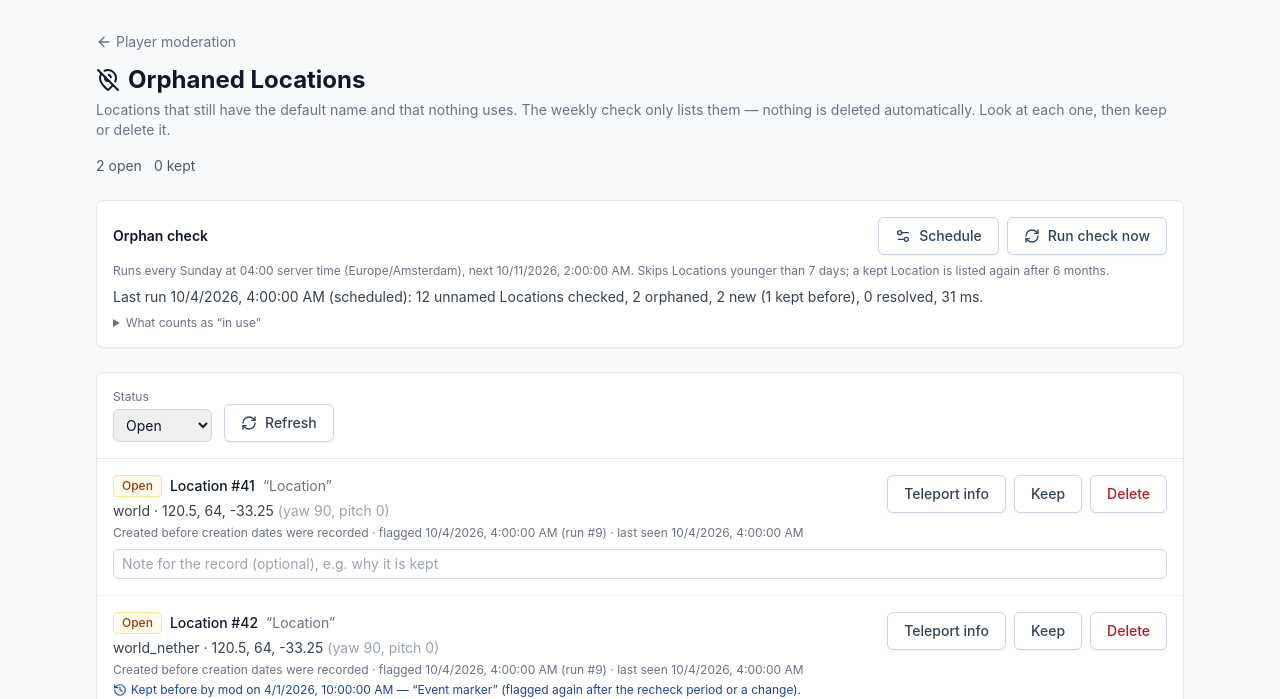
Test: LocationRetentionPage › deletes only after the FeedbackModal confirmation, with the note
The image size is (1280, 699).
Expected: the text "Location #41" is shown, [170,476,255,496]
In the field named "Note for Location 41": (640, 564) [113,549,1167,579], type "Test leftover"
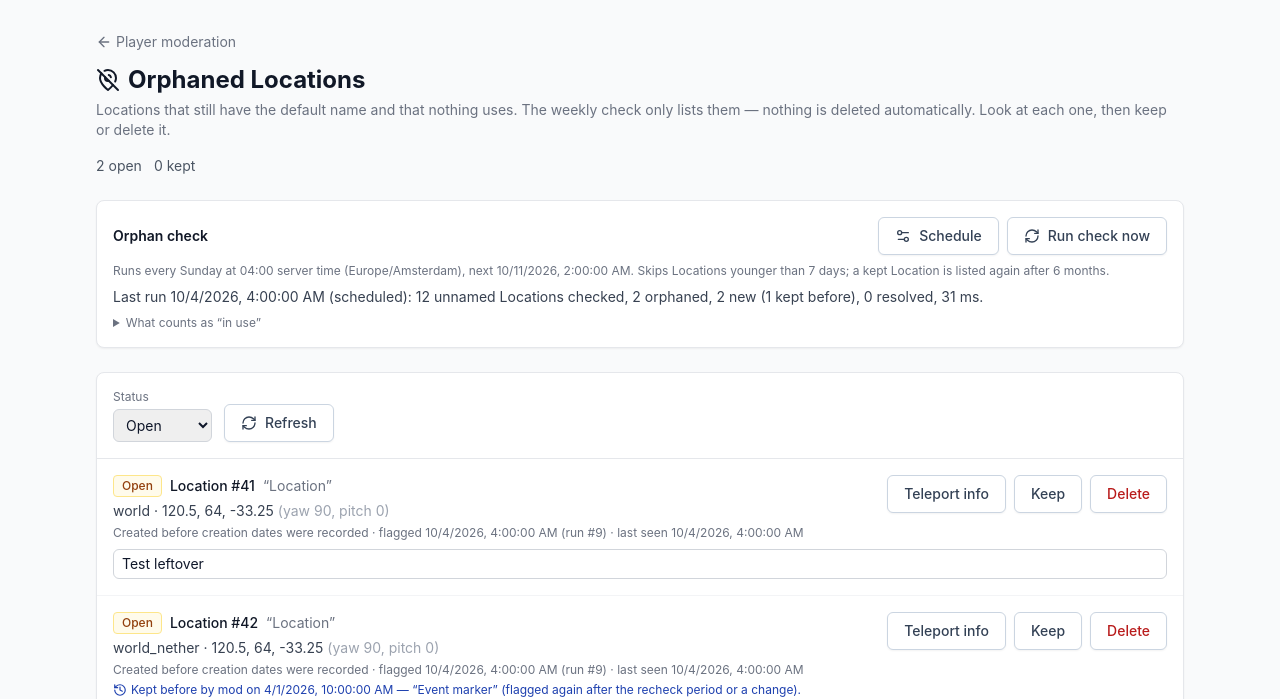
Click the button with aria-label "Delete Location 41": (1129, 494) [1090,475,1167,513]
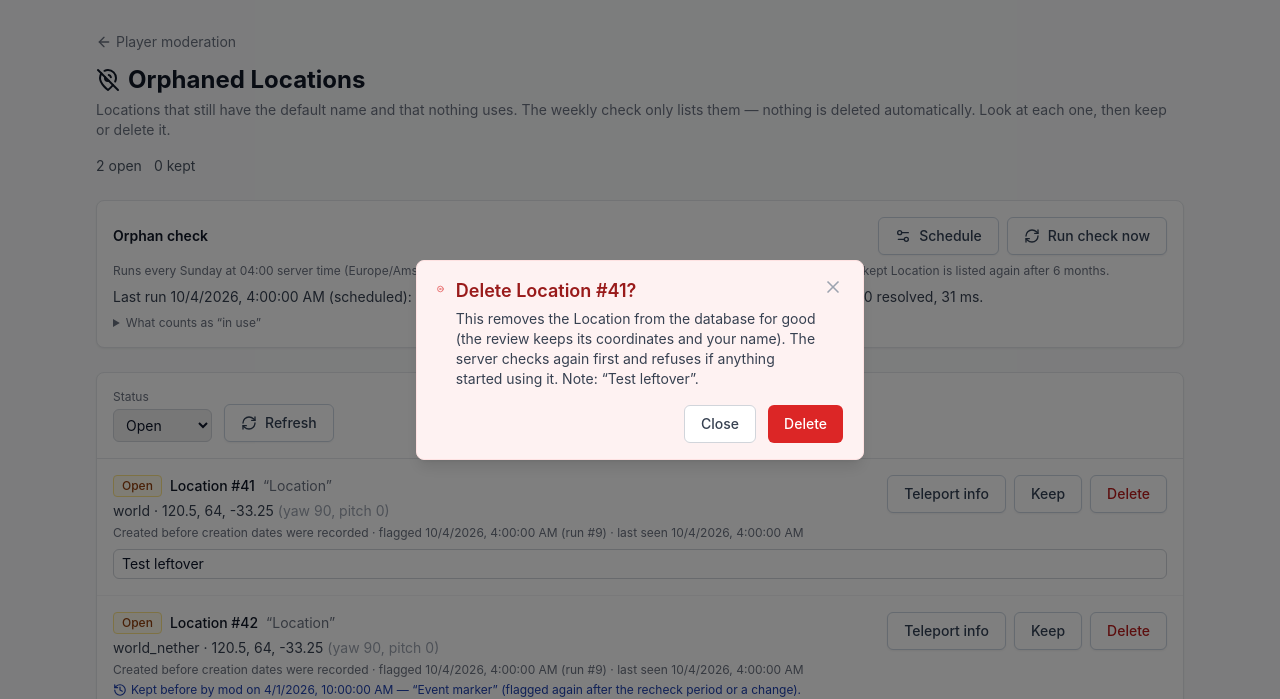
Expected: the dialog "Delete Location #41?" shows "Test leftover", [456,310,815,387]
Click the button "Delete": (806, 424) [768,405,843,443]
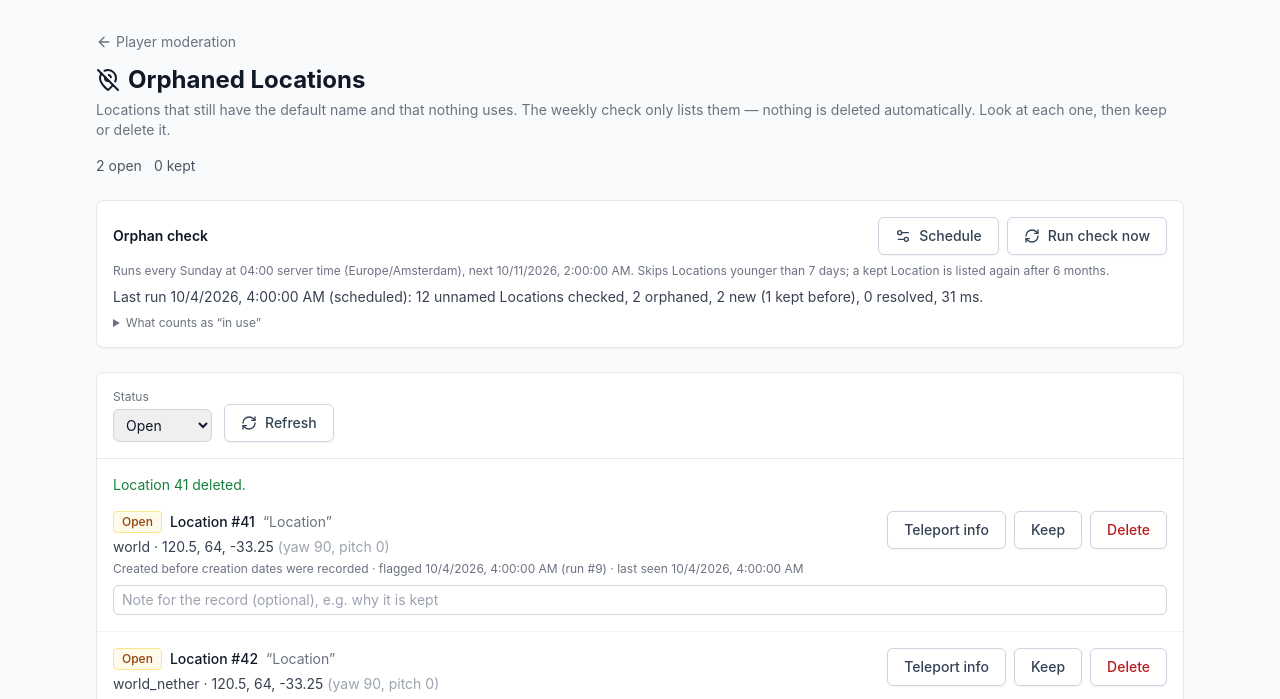
Expected: the message reads "Location 41 deleted.", [113,476,246,493]
